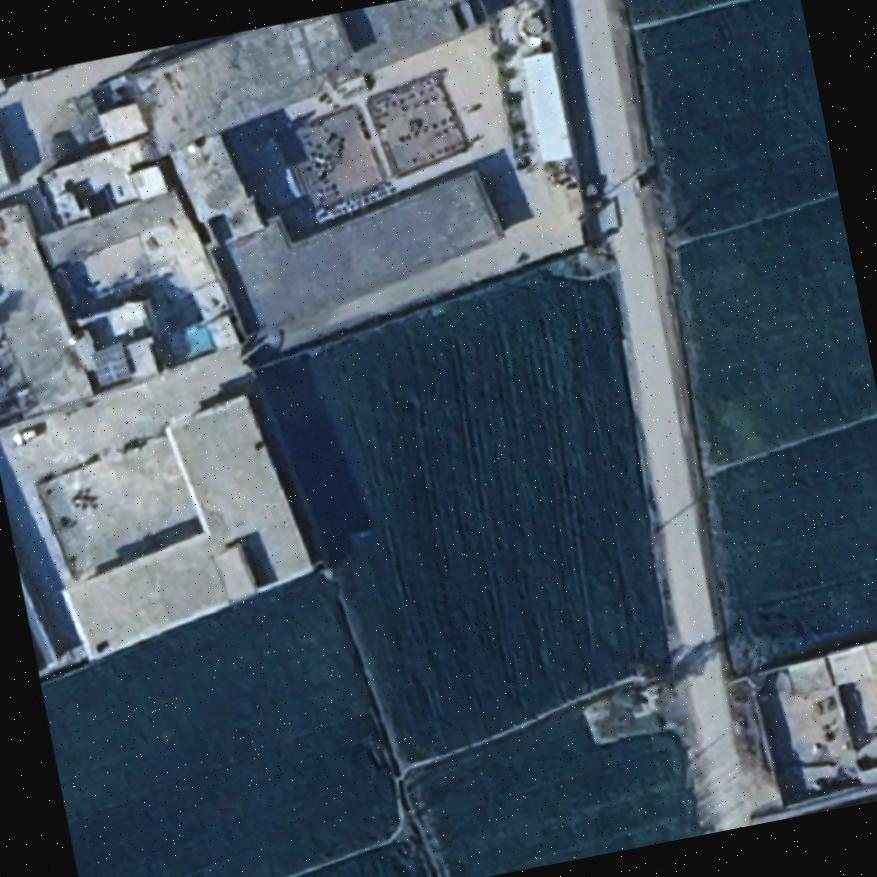Solarpanel: (87, 338, 134, 389)
